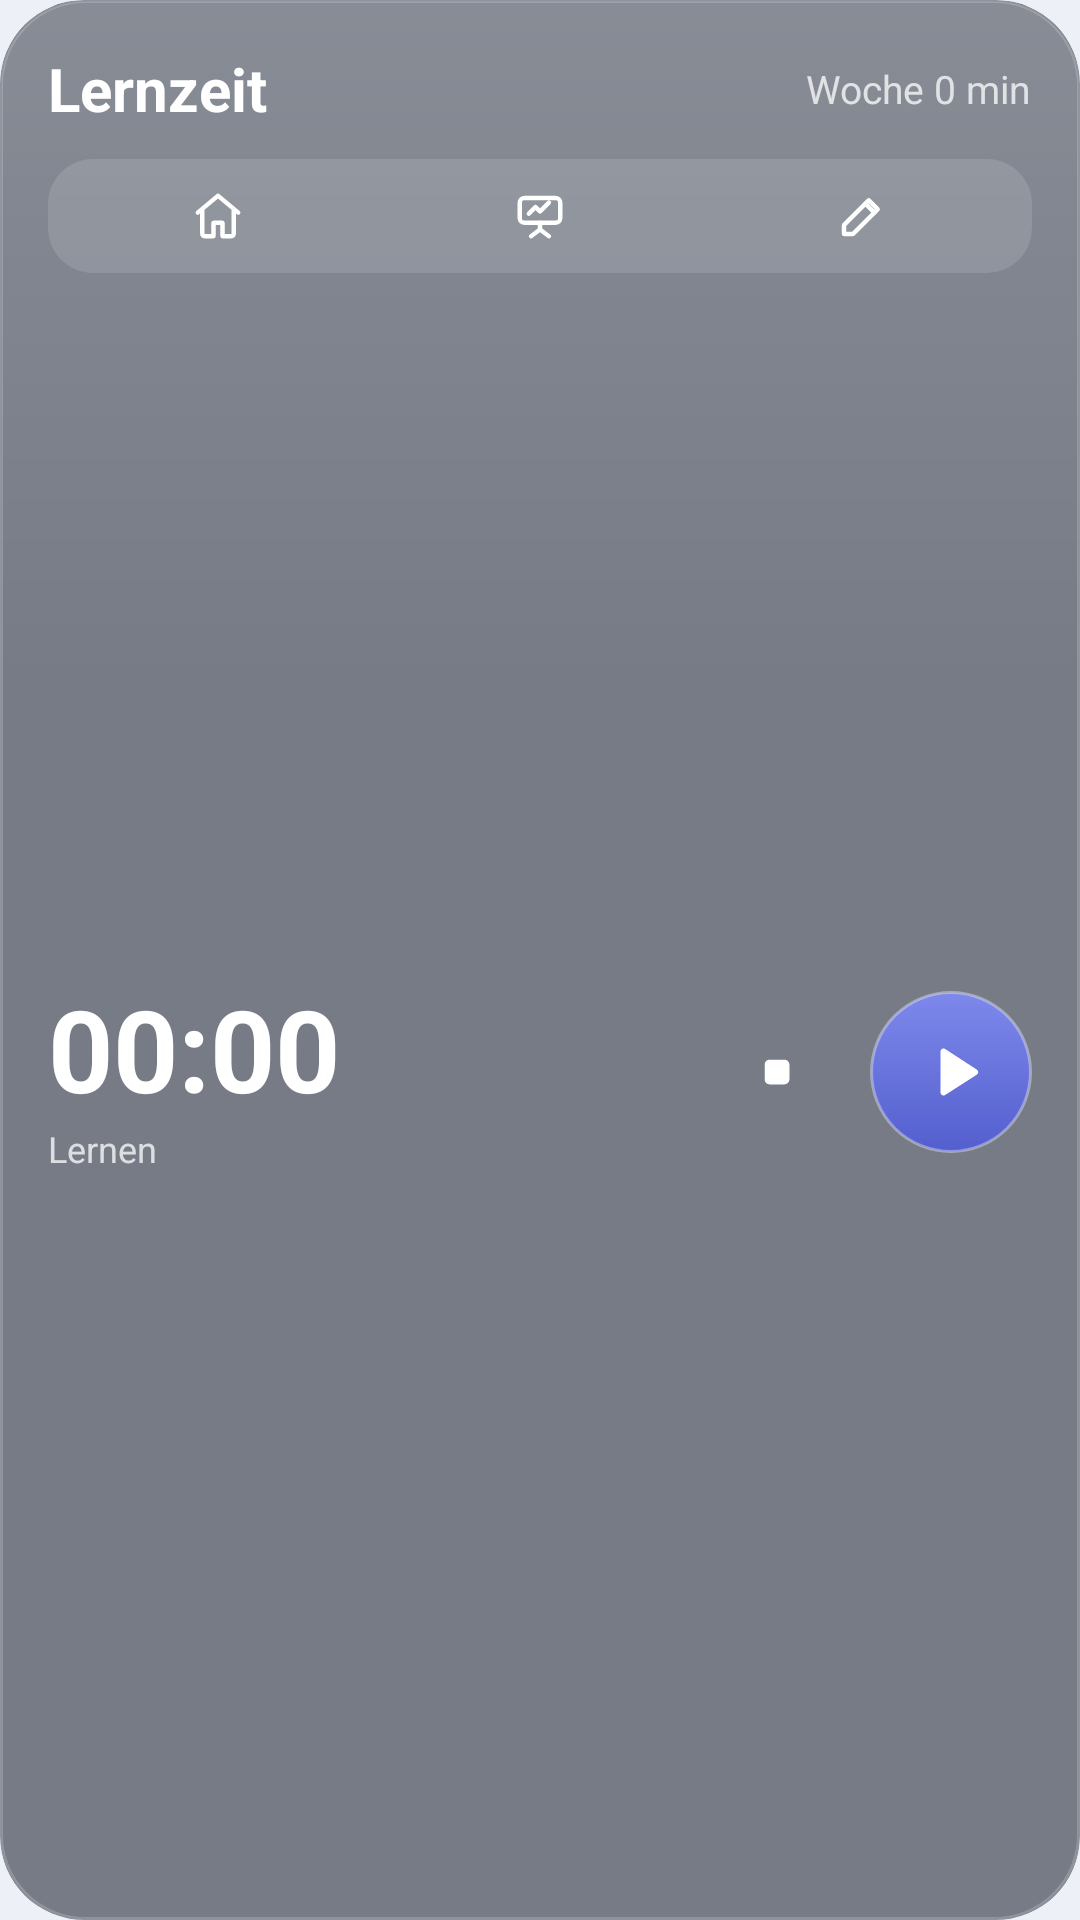

Icon click points for this 1080 × 1920 phone screenshot, format (x=x, y=y):
Beenden: (x=777, y=1072)
house: (x=218, y=216)
pen: (x=860, y=217)
presentation: (x=540, y=217)
Start oder Pause: (x=951, y=1072)
